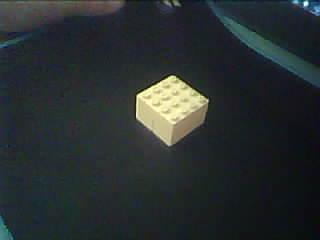lego: (136, 75, 209, 146)
